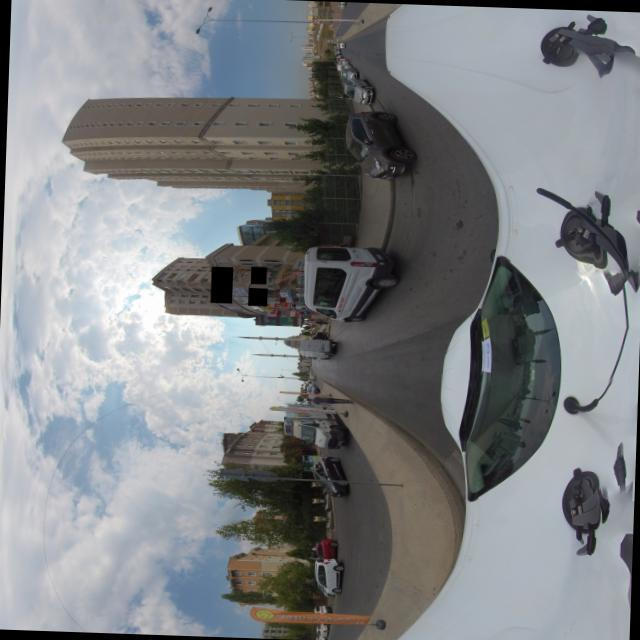SignStore: (211, 266, 232, 302), (248, 286, 266, 305), (250, 266, 266, 283)
